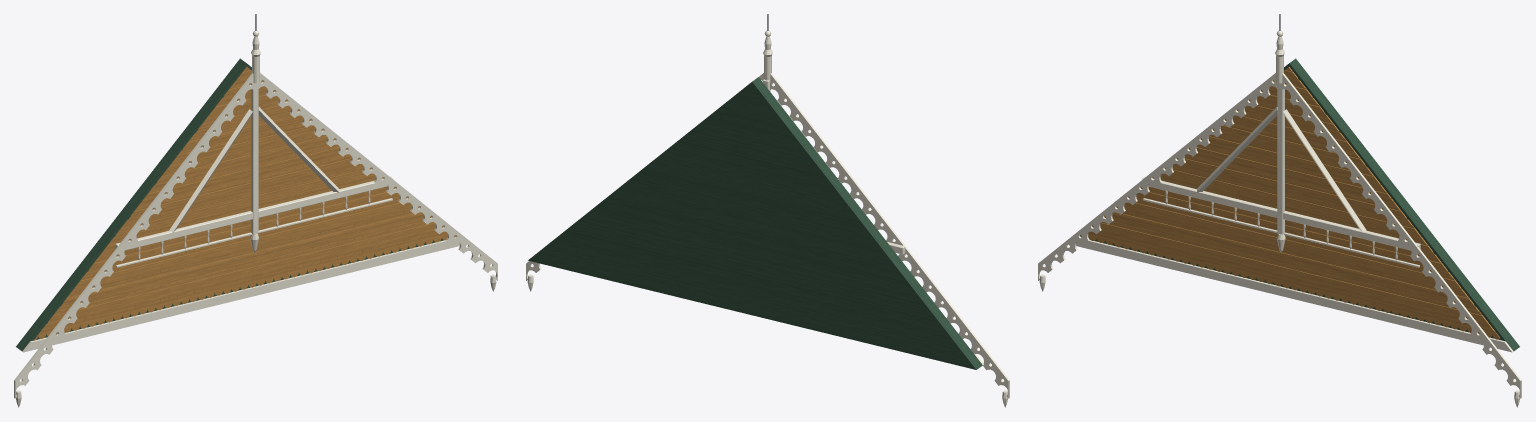
Rendered from gable_front.glb.
The picture shows the model from 3 angles, left to right: view 1: azimuth 30°, elevation 25°; view 2: azimuth 150°, elevation 25°; view 3: azimuth 330°, elevation 25°; orthographic projection.
Visible parts, largest first — view 1: gable_front_scale, gable_front_trim, gable_front_boards; view 2: gable_front_boards, gable_front_trim; view 3: gable_front_scale, gable_front_trim, gable_front_boards.
Part boxes in pixels (box(x1,y1,x2,y2)): gable_front_scale: box(33, 67, 455, 340); gable_front_trim: box(14, 30, 497, 407); gable_front_boards: box(16, 58, 443, 351); gable_front_boards: box(528, 77, 982, 369); gable_front_trim: box(526, 30, 1009, 407); gable_front_scale: box(1080, 67, 1499, 339); gable_front_trim: box(1038, 30, 1521, 407); gable_front_boards: box(1080, 58, 1519, 351).
Bounding box in the file's own units: 8.6 × 5.72 × 0.5661.
Materials: 4 (2 with a texture image).
